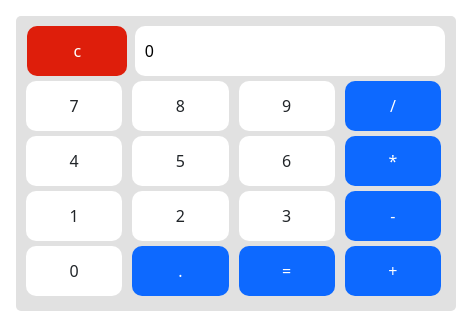
Test: Calculadora › deve testar o campo de numeros
Click the button "2": (180, 216) x1=132 y1=191 x2=229 y2=241
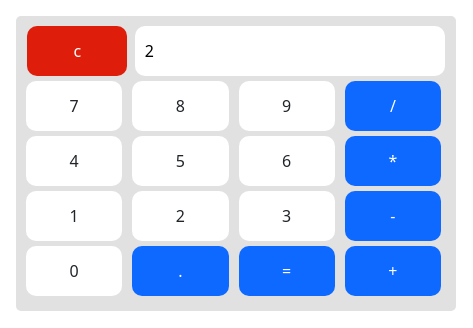
Click the button "c": (77, 51) x1=27 y1=26 x2=127 y2=76
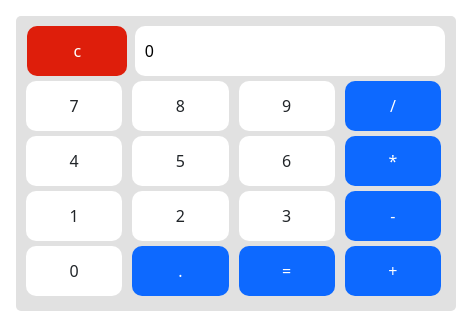
expect the field with test id "txtNumeros" holds "0": met, box x1=135 y1=26 x2=425 y2=76
